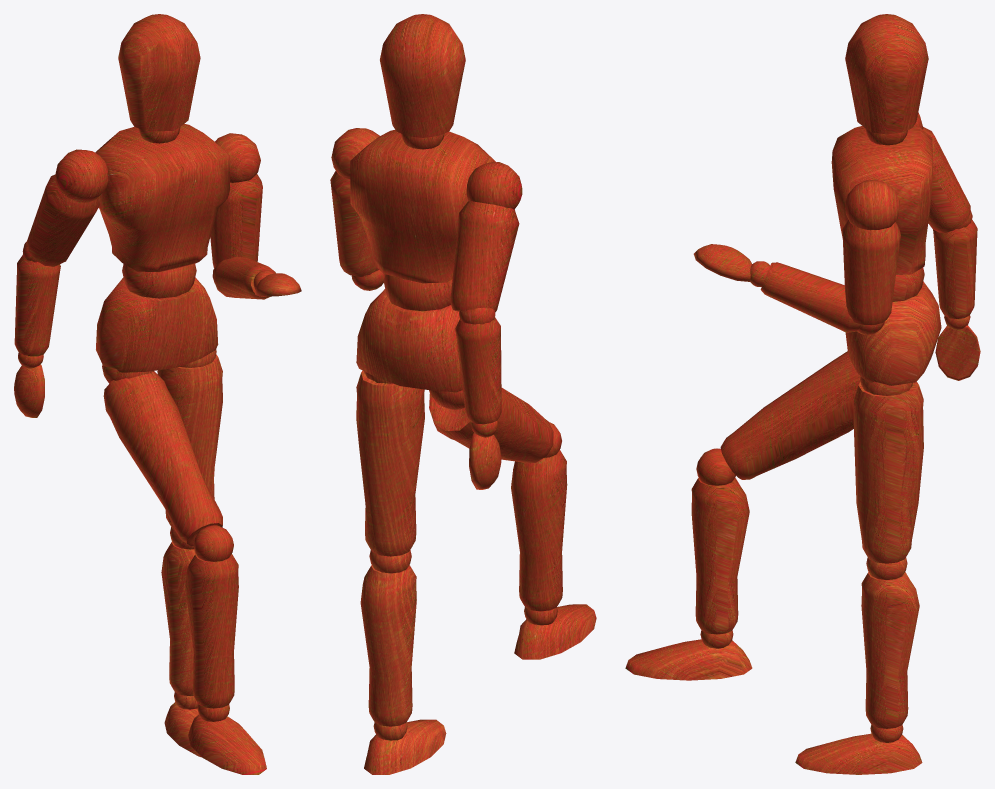
File: dummy_obj_walk_pose_1.obj
The picture shows the model from 3 angles, left to right: view 1: azimuth 30°, elevation 25°; view 2: azimuth 150°, elevation 25°; view 3: azimuth 270°, elevation 25°; orthographic projection. The views are drawn at different scales.
Visible parts, largest first — view 1: dummy_hips3 dummy_belly dummy_torso 메시, dummy_hips3 dummy_rpelvis dummy_rupleg 메시, dummy_hips3 메시, dummy_hips3 dummy_belly dummy_torso dummy_neck dummy_headq 메시, dummy_hips3 dummy_rpelvis dummy_rupleg dummy_rknee dummy_rleg 메시, dummy_hips3 dummy_belly dummy_torso dummy_rshoulder dummy_rarm d, dummy_hips3 dummy_lpelvis dummy_lupleg 메시, dummy_hips3 dummy_belly dummy_torso dummy_rshoulder dummy_rarm 메, dummy_hips3 dummy_lpelvis dummy_lupleg dummy_lknee dummy_lleg 메시, dummy_hips3 dummy_rpelvis dummy_rupleg dummy_rknee dummy_rleg du, dummy_hips3 dummy_belly dummy_torso dummy_lshoulder dummy_larm 메, dummy_hips3 dummy_belly dummy_torso dummy_lshoulder dummy_larm d (+5 smaller); view 2: dummy_hips3 dummy_belly dummy_torso 메시, dummy_hips3 dummy_lpelvis dummy_lupleg 메시, dummy_hips3 dummy_belly dummy_torso dummy_neck dummy_headq 메시, dummy_hips3 메시, dummy_hips3 dummy_lpelvis dummy_lupleg dummy_lknee dummy_lleg 메시, dummy_hips3 dummy_rpelvis dummy_rupleg dummy_rknee dummy_rleg 메시, dummy_hips3 dummy_belly dummy_torso dummy_rshoulder dummy_rarm d, dummy_hips3 dummy_belly dummy_torso dummy_rshoulder dummy_rarm 메, dummy_hips3 dummy_rpelvis dummy_rupleg 메시, dummy_hips3 dummy_lpelvis dummy_lupleg dummy_lknee dummy_lleg du, dummy_hips3 dummy_rpelvis dummy_rupleg dummy_rknee dummy_rleg du, dummy_hips3 dummy_belly dummy_torso dummy_lshoulder dummy_larm 메 (+6 smaller); view 3: dummy_hips3 dummy_lpelvis dummy_lupleg 메시, dummy_hips3 dummy_rpelvis dummy_rupleg 메시, dummy_hips3 dummy_belly dummy_torso 메시, dummy_hips3 dummy_belly dummy_torso dummy_neck dummy_headq 메시, dummy_hips3 dummy_lpelvis dummy_lupleg dummy_lknee dummy_lleg 메시, dummy_hips3 dummy_rpelvis dummy_rupleg dummy_rknee dummy_rleg 메시, dummy_hips3 메시, dummy_hips3 dummy_belly dummy_torso dummy_rshoulder dummy_rarm d, dummy_hips3 dummy_belly dummy_torso dummy_lshoulder dummy_larm d, dummy_hips3 dummy_belly dummy_torso dummy_lshoulder dummy_larm 메, dummy_hips3 dummy_rpelvis dummy_rupleg dummy_rknee dummy_rleg du, dummy_hips3 dummy_lpelvis dummy_lupleg dummy_lknee dummy_lleg du (+5 smaller).
Boxes of the visible parts, bbox=[...] form: dummy_hips3 dummy_belly dummy_torso 메시: bbox=[95, 124, 229, 272]; dummy_hips3 dummy_rpelvis dummy_rupleg 메시: bbox=[103, 371, 222, 545]; dummy_hips3 메시: bbox=[96, 277, 218, 372]; dummy_hips3 dummy_belly dummy_torso dummy_neck dummy_headq 메시: bbox=[118, 14, 200, 131]; dummy_hips3 dummy_rpelvis dummy_rupleg dummy_rknee dummy_rleg 메시: bbox=[185, 554, 238, 708]; dummy_hips3 dummy_belly dummy_torso dummy_rshoulder dummy_rarm d: bbox=[14, 242, 60, 417]; dummy_hips3 dummy_lpelvis dummy_lupleg 메시: bbox=[157, 354, 222, 529]; dummy_hips3 dummy_belly dummy_torso dummy_rshoulder dummy_rarm 메: bbox=[26, 174, 100, 266]; dummy_hips3 dummy_lpelvis dummy_lupleg dummy_lknee dummy_lleg 메시: bbox=[161, 541, 195, 696]; dummy_hips3 dummy_rpelvis dummy_rupleg dummy_rknee dummy_rleg du: bbox=[188, 704, 266, 774]; dummy_hips3 dummy_belly dummy_torso dummy_lshoulder dummy_larm 메: bbox=[210, 174, 262, 268]; dummy_hips3 dummy_belly dummy_torso dummy_lshoulder dummy_larm d: bbox=[212, 256, 301, 299]; dummy_hips3 dummy_belly dummy_torso 메시: bbox=[350, 130, 495, 283]; dummy_hips3 dummy_lpelvis dummy_lupleg 메시: bbox=[356, 370, 424, 556]; dummy_hips3 dummy_belly dummy_torso dummy_neck dummy_headq 메시: bbox=[380, 14, 465, 137]; dummy_hips3 메시: bbox=[356, 289, 462, 392]; dummy_hips3 dummy_lpelvis dummy_lupleg dummy_lknee dummy_lleg 메시: bbox=[360, 565, 416, 726]; dummy_hips3 dummy_rpelvis dummy_rupleg dummy_rknee dummy_rleg 메시: bbox=[511, 450, 567, 611]; dummy_hips3 dummy_belly dummy_torso dummy_rshoulder dummy_rarm d: bbox=[455, 307, 501, 489]; dummy_hips3 dummy_belly dummy_torso dummy_rshoulder dummy_rarm 메: bbox=[450, 201, 519, 312]; dummy_hips3 dummy_rpelvis dummy_rupleg 메시: bbox=[429, 388, 553, 463]; dummy_hips3 dummy_lpelvis dummy_lupleg dummy_lknee dummy_lleg du: bbox=[364, 719, 446, 774]; dummy_hips3 dummy_rpelvis dummy_rupleg dummy_rknee dummy_rleg du: bbox=[514, 604, 596, 659]; dummy_hips3 dummy_belly dummy_torso dummy_lshoulder dummy_larm 메: bbox=[330, 171, 378, 276]; dummy_hips3 dummy_lpelvis dummy_lupleg 메시: bbox=[853, 382, 923, 563]; dummy_hips3 dummy_rpelvis dummy_rupleg 메시: bbox=[720, 351, 860, 479]; dummy_hips3 dummy_belly dummy_torso 메시: bbox=[831, 126, 932, 274]; dummy_hips3 dummy_belly dummy_torso dummy_neck dummy_headq 메시: bbox=[845, 14, 928, 134]; dummy_hips3 dummy_lpelvis dummy_lupleg dummy_lknee dummy_lleg 메시: bbox=[861, 572, 919, 728]; dummy_hips3 dummy_rpelvis dummy_rupleg dummy_rknee dummy_rleg 메시: bbox=[691, 477, 749, 634]; dummy_hips3 메시: bbox=[845, 281, 941, 385]; dummy_hips3 dummy_belly dummy_torso dummy_rshoulder dummy_rarm d: bbox=[933, 210, 980, 380]; dummy_hips3 dummy_belly dummy_torso dummy_lshoulder dummy_larm d: bbox=[693, 244, 884, 334]; dummy_hips3 dummy_belly dummy_torso dummy_lshoulder dummy_larm 메: bbox=[842, 220, 900, 324]; dummy_hips3 dummy_rpelvis dummy_rupleg dummy_rknee dummy_rleg du: bbox=[625, 630, 752, 680]; dummy_hips3 dummy_lpelvis dummy_lupleg dummy_lknee dummy_lleg du: bbox=[795, 724, 922, 774].
Bounding box in the file's own units: 51.46 × 177 × 78.08.
29 materials, 29 textured.
